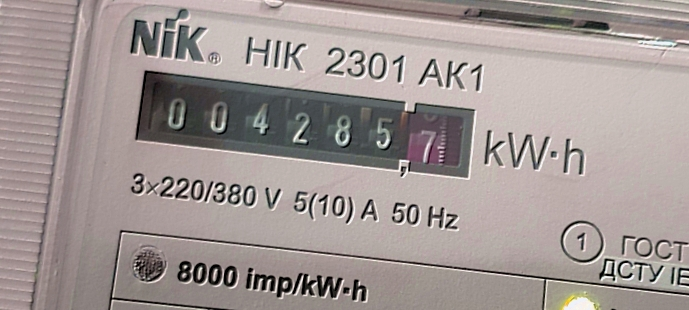0: (206, 97, 232, 136), (164, 94, 190, 132)
2: (289, 108, 313, 147)
4: (251, 99, 272, 136)
5: (371, 113, 396, 151)
7: (414, 127, 438, 165)
8: (329, 111, 355, 150)
screen: (118, 52, 493, 199)
